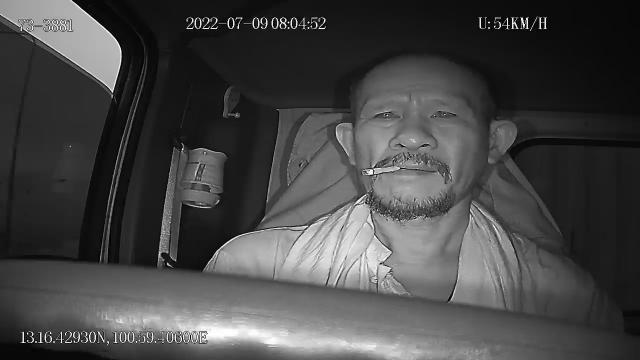SafeDriving: (423, 99, 465, 127), (365, 102, 406, 128)
Smoking: (362, 166, 401, 176)
